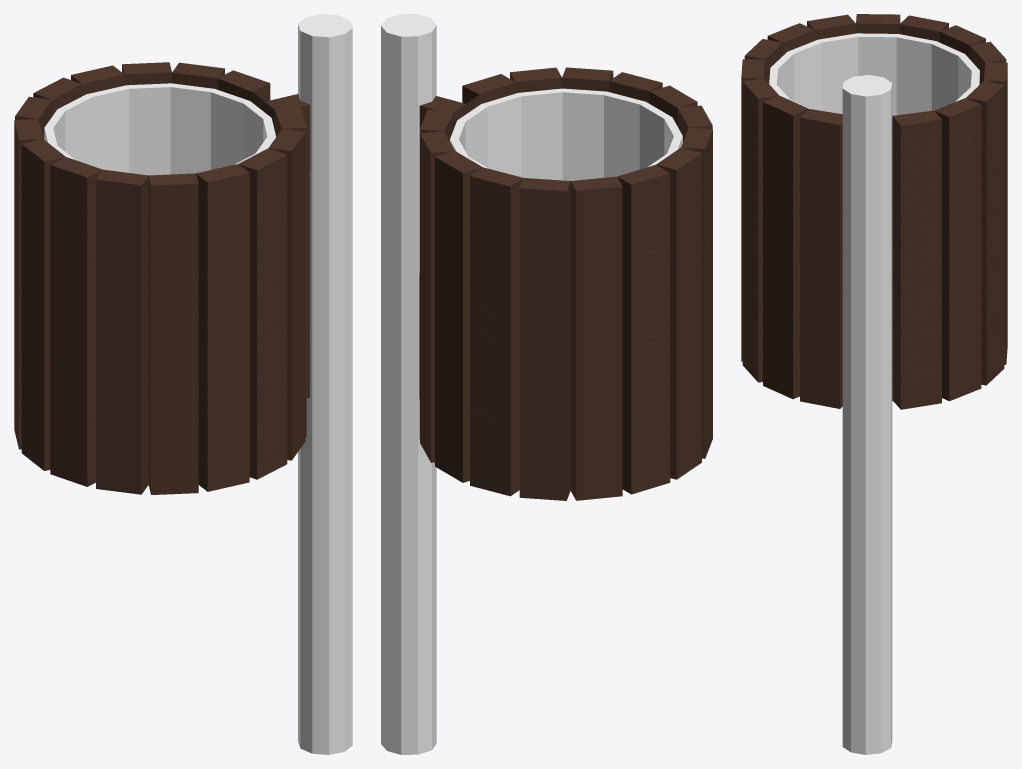
File: basura.fbx
3 renders of one model, left to right at view 1: azimuth 30°, elevation 25°; view 2: azimuth 150°, elevation 25°; view 3: azimuth 270°, elevation 25°, orthographic. The views are drawn at different scales.
Parts seen in each view (by area): view 1: pCylinder529; view 2: pCylinder529; view 3: pCylinder529.
Boxes of the visible parts, box(x1,y1,x2,y2) form: pCylinder529: box(14, 14, 352, 754); pCylinder529: box(381, 14, 712, 754); pCylinder529: box(741, 14, 1007, 754).
Bounding box in the file's own units: 246 × 542 × 199.
